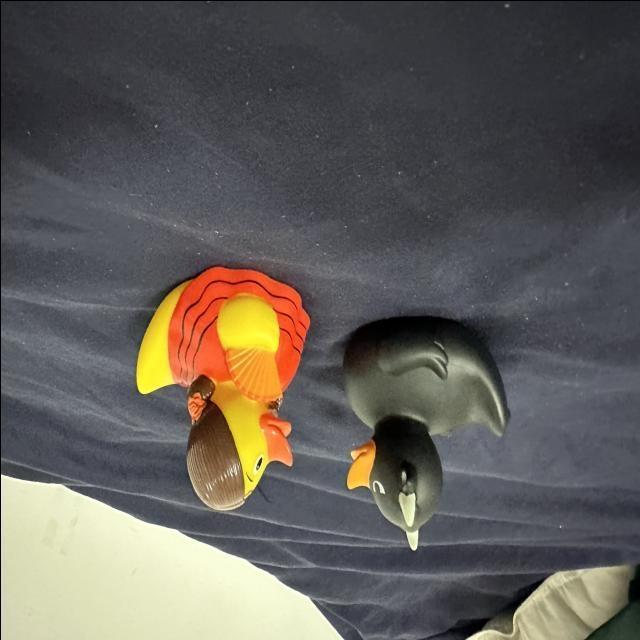rubber-duck: (135, 266, 308, 509), (342, 315, 507, 548)
